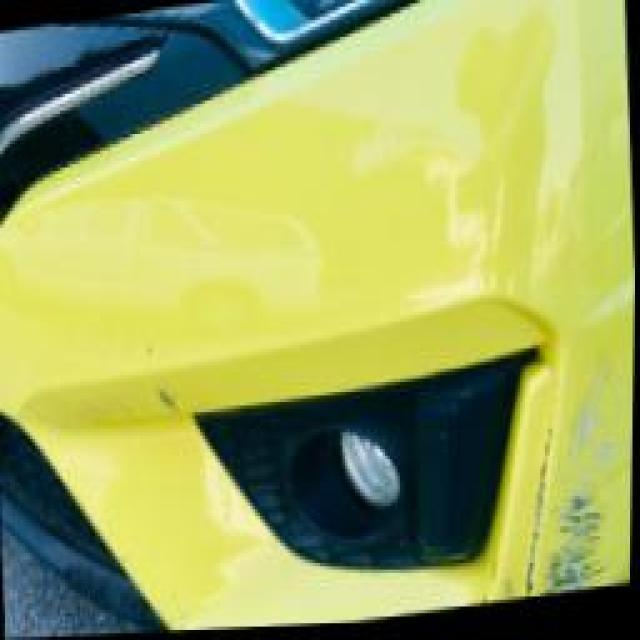Bumper: (150, 278, 637, 635)
